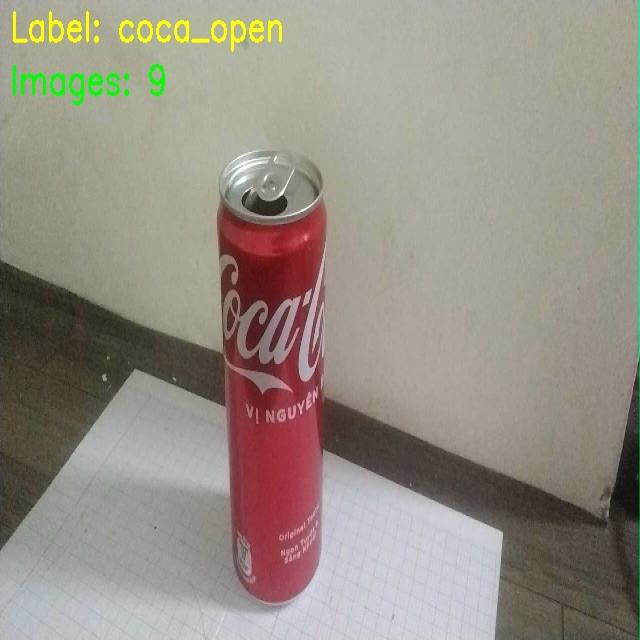Coca_open: (212, 116, 362, 630)
